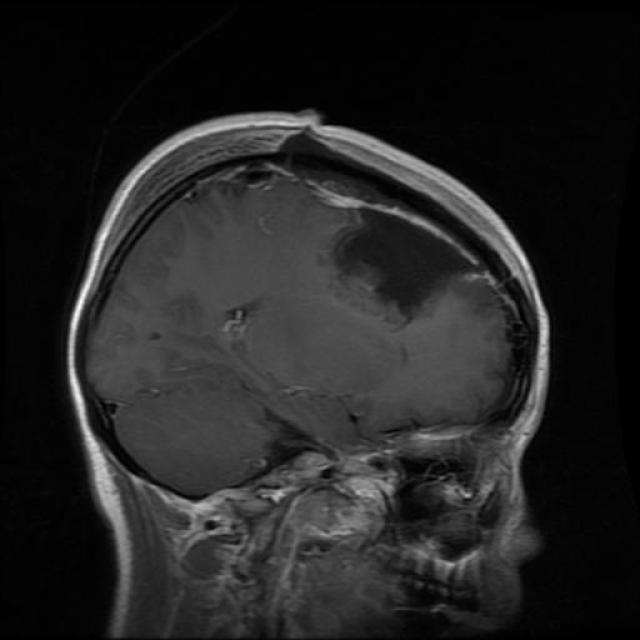glioma: (316, 189, 492, 319)
